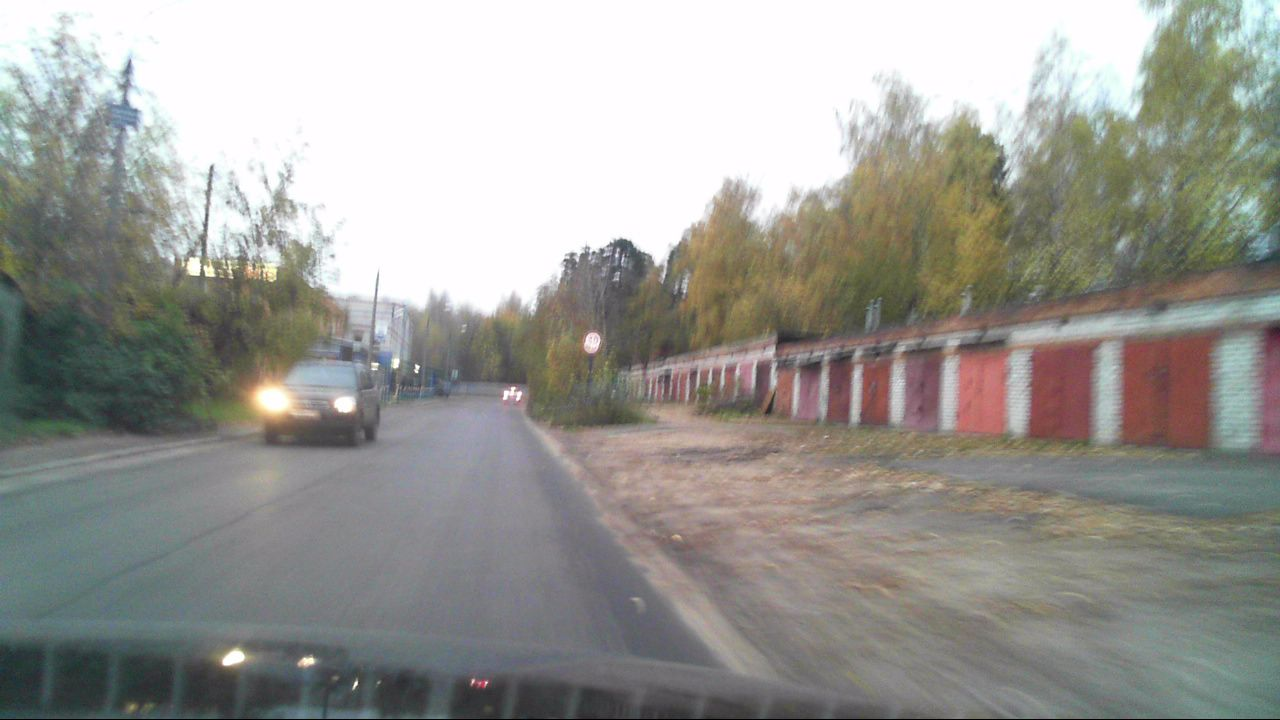speed_warning_40: (584, 331, 600, 347)
